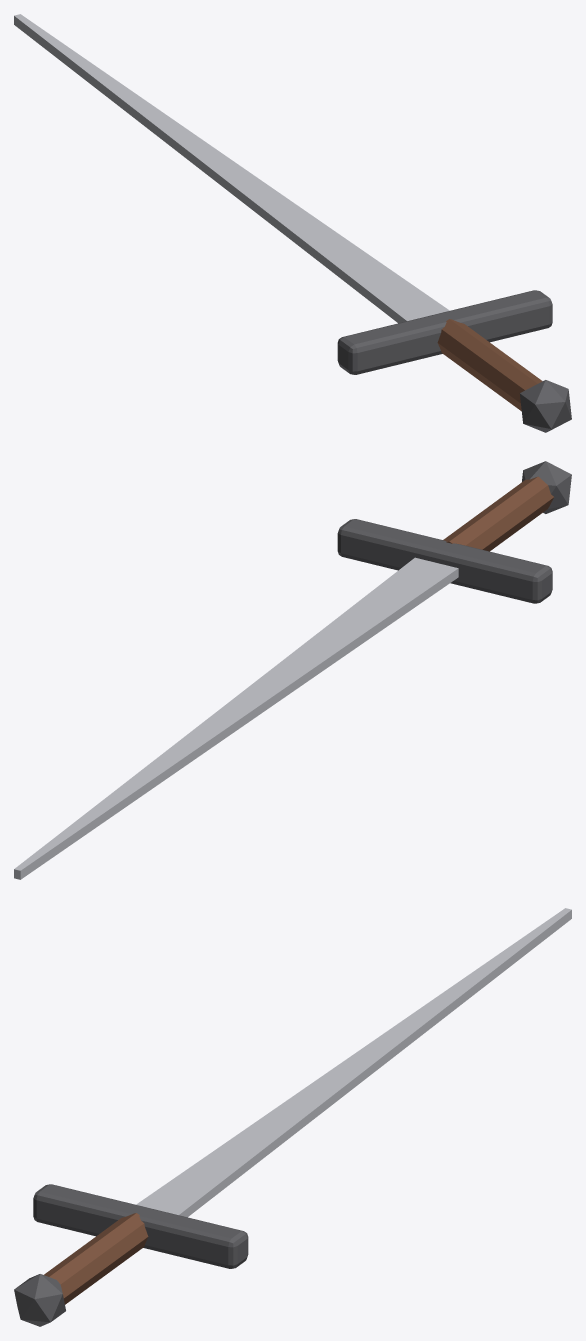
The model's file is longsword.glb.
3 views of the same model, one above another, from view 1: azimuth 30°, elevation 25°; view 2: azimuth 150°, elevation 25°; view 3: azimuth 330°, elevation 25° (orthographic).
Visible parts, largest first — view 1: Cube, Cube.001, Cone, Icosphere; view 2: Cube, Cube.001, Cone, Icosphere; view 3: Cube, Cube.001, Cone, Icosphere.
Boxes of the visible parts, <box> form: Cube: <box>14,14,449,323</box>; Cube.001: <box>337,290,552,374</box>; Cone: <box>437,319,542,410</box>; Icosphere: <box>519,380,571,432</box>; Cube: <box>14,557,458,879</box>; Cube.001: <box>337,519,552,603</box>; Cone: <box>443,476,553,551</box>; Icosphere: <box>522,461,571,513</box>; Cube: <box>136,908,571,1217</box>; Cube.001: <box>33,1184,248,1268</box>; Cone: <box>44,1213,148,1304</box>; Icosphere: <box>14,1274,65,1326</box>.
Bounding box in the file's own units: 0.28 × 0.07 × 1.29.
